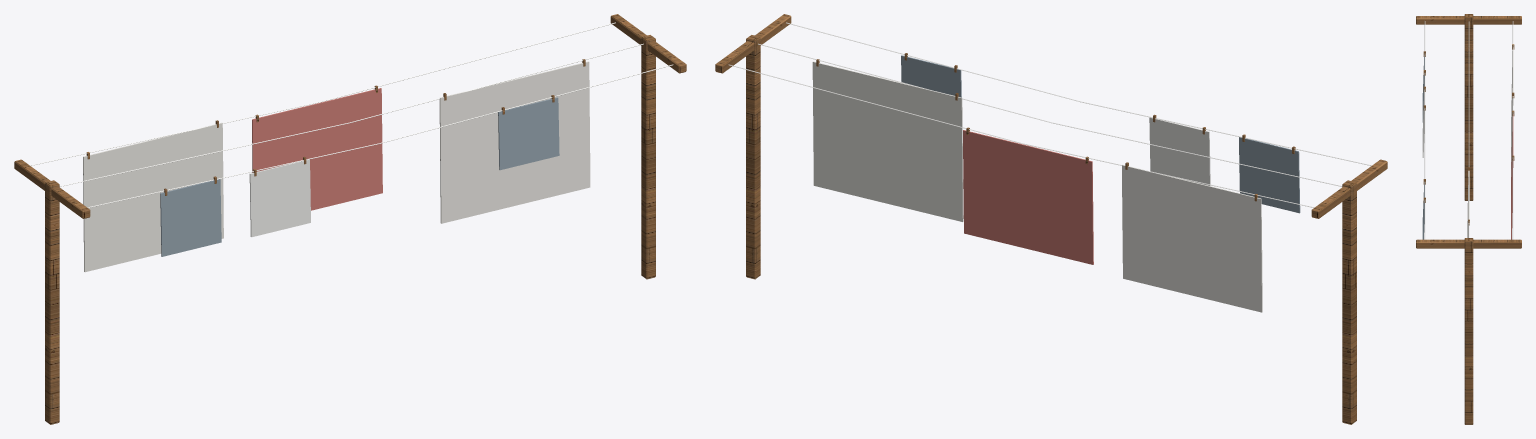
File: clothesline.glb
3 renders of one model, left to right at view 1: azimuth 30°, elevation 25°; view 2: azimuth 150°, elevation 25°; view 3: azimuth 270°, elevation 25°, orthographic. The views are drawn at different scales.
Parts seen in each view (by area): view 1: clothesline_linen, clothesline_quilt, clothesline_wood, clothesline_fabric, clothesline_paint_w; view 2: clothesline_linen, clothesline_quilt, clothesline_wood, clothesline_paint_w, clothesline_fabric; view 3: clothesline_wood, clothesline_paint_w, clothesline_linen, clothesline_quilt, clothesline_fabric.
Boxes of the visible parts, box(x1,y1,x2,y2) form: clothesline_linen: box(83, 61, 590, 272); clothesline_quilt: box(252, 88, 382, 210); clothesline_wood: box(14, 14, 686, 424); clothesline_fabric: box(160, 97, 559, 256); clothesline_paint_w: box(30, 22, 673, 237); clothesline_linen: box(812, 61, 1262, 312); clothesline_quilt: box(963, 130, 1093, 264); clothesline_wood: box(715, 14, 1387, 424); clothesline_paint_w: box(728, 22, 1371, 207); clothesline_fabric: box(901, 55, 1300, 213); clothesline_wood: box(1416, 14, 1521, 424); clothesline_paint_w: box(1422, 21, 1513, 239); clothesline_linen: box(1467, 47, 1513, 237); clothesline_quilt: box(1511, 114, 1513, 239); clothesline_fabric: box(1422, 55, 1424, 239).
Bounding box in the file's own units: 6.1 × 2.3 × 1.2.
5 materials, 1 textured.
